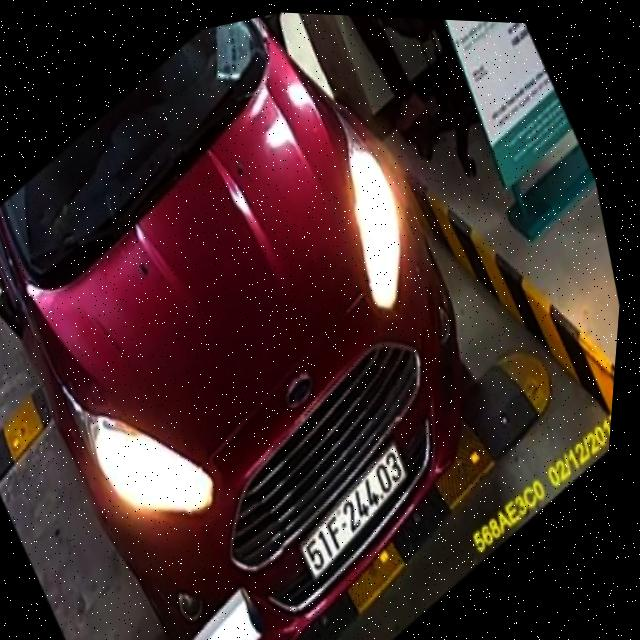car: (0, 0, 552, 640)
plate: (271, 430, 434, 589)
